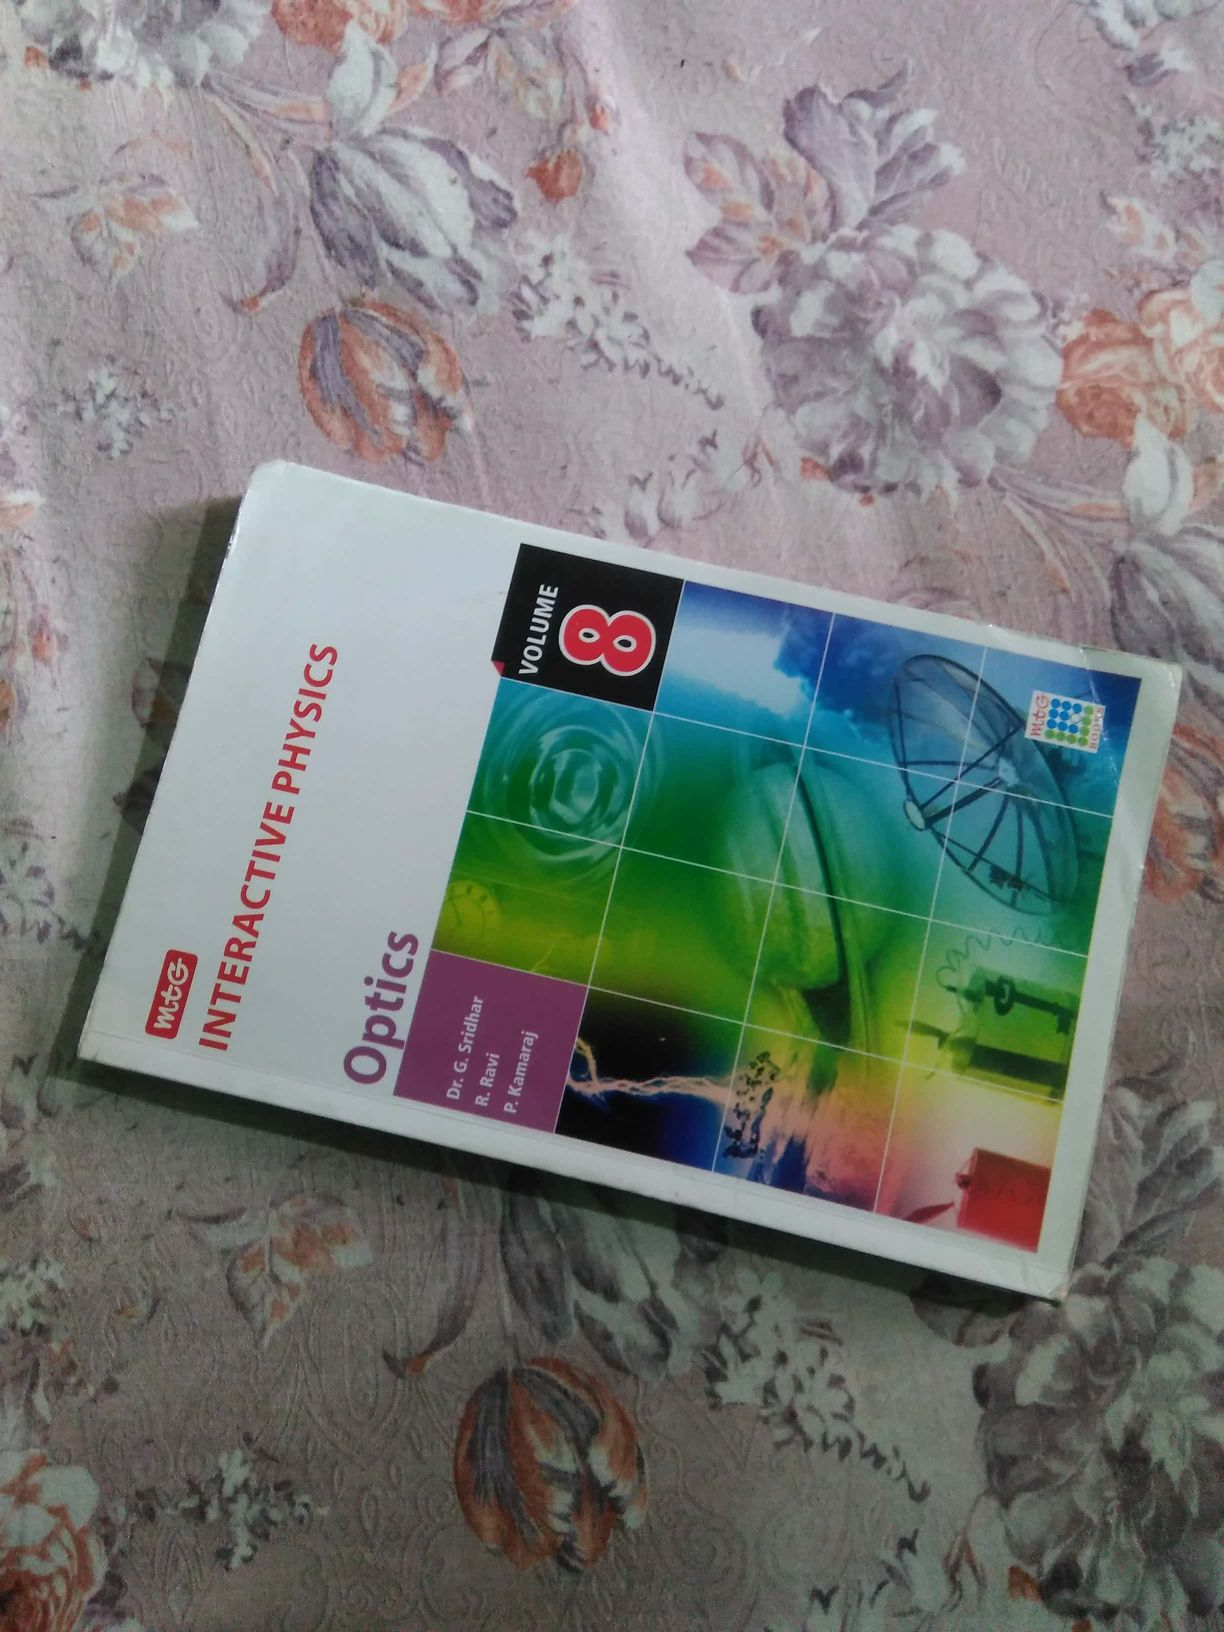optics: (44, 463, 1212, 1315)
